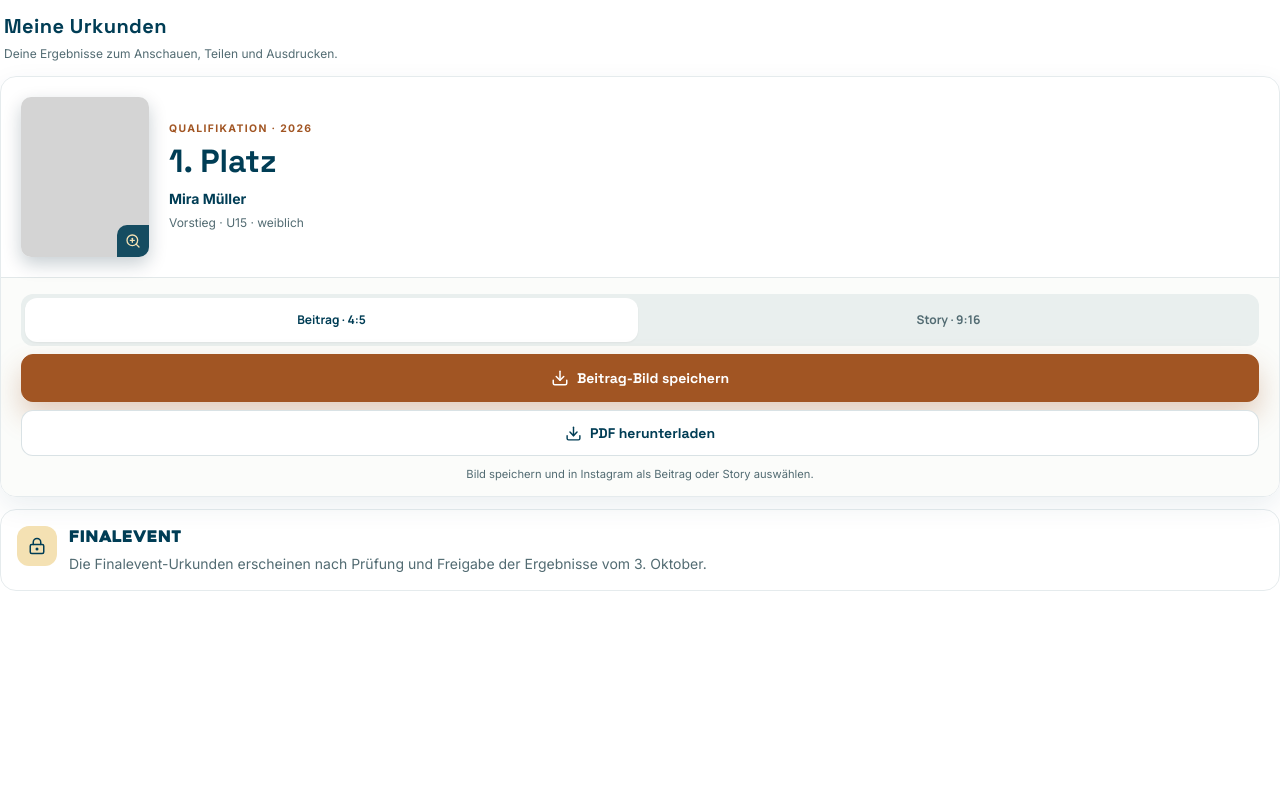
Test: ProfileCertificates › downloads the social image when file sharing is unavailable
Click the button "Beitrag-Bild speichern". click: x=640, y=378
box: x1=21 y1=354 x2=1259 y2=402
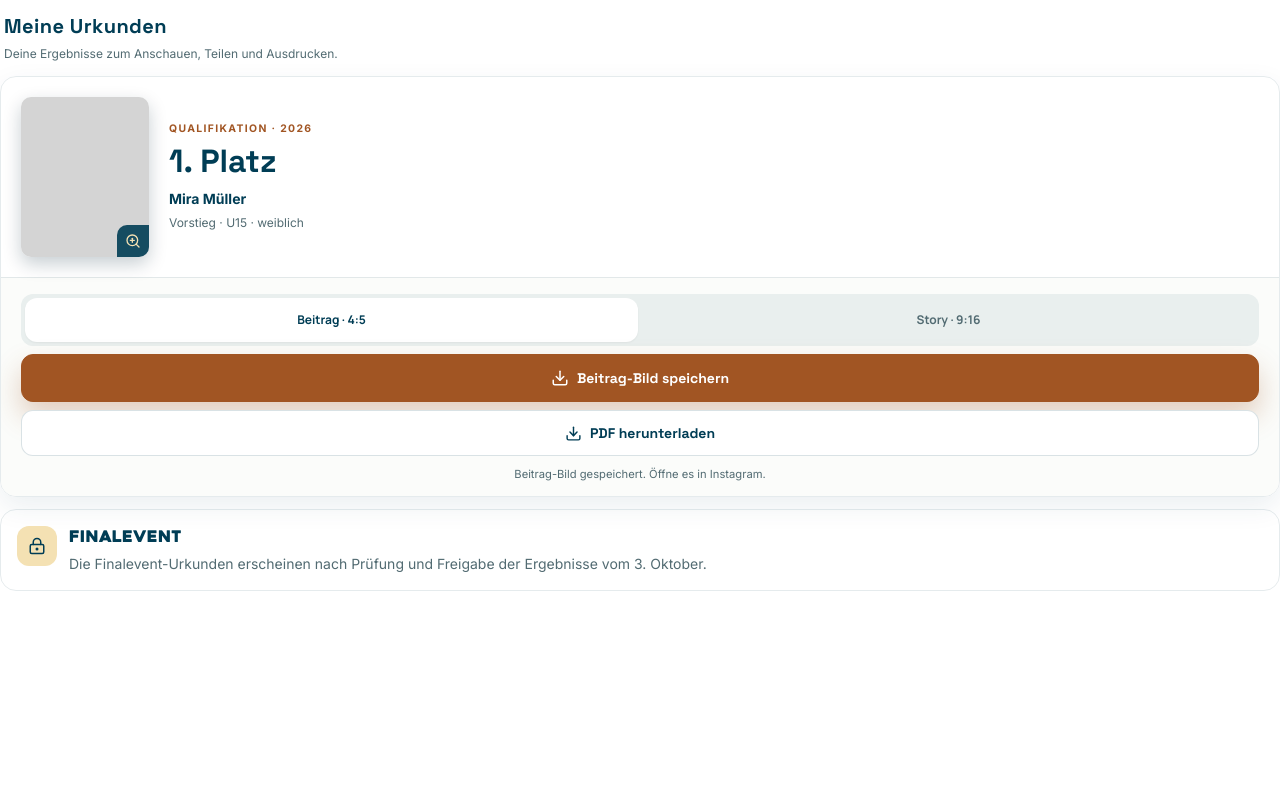
Expected: the text "Beitrag-Bild gespeichert. Öffne es in Instagram." is shown, x1=514 y1=467 x2=766 y2=481
